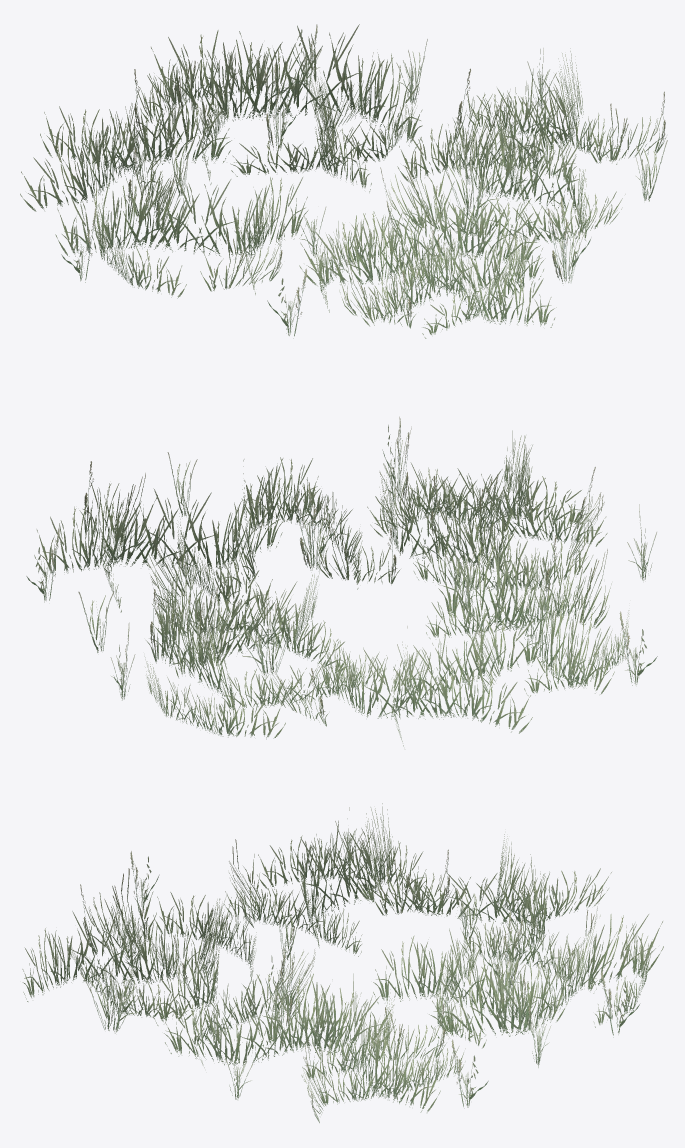
Rendered from urbangrngrass_01.FBX.
3 renders of one model, top to bottom at view 1: azimuth 30°, elevation 25°; view 2: azimuth 150°, elevation 25°; view 3: azimuth 270°, elevation 25°, orthographic. The views are drawn at different scales.
Visible parts, largest first — view 1: urbangrngrass_01; view 2: urbangrngrass_01; view 3: urbangrngrass_01.
Boxes of the visible parts, <box> form: urbangrngrass_01: <box>20,24,667,338</box>; urbangrngrass_01: <box>26,416,657,746</box>; urbangrngrass_01: <box>22,803,663,1122</box>.
Bounding box in the file's own units: 1.62 × 1.59 × 0.313.
Materials: 1 (1 with a texture image).
